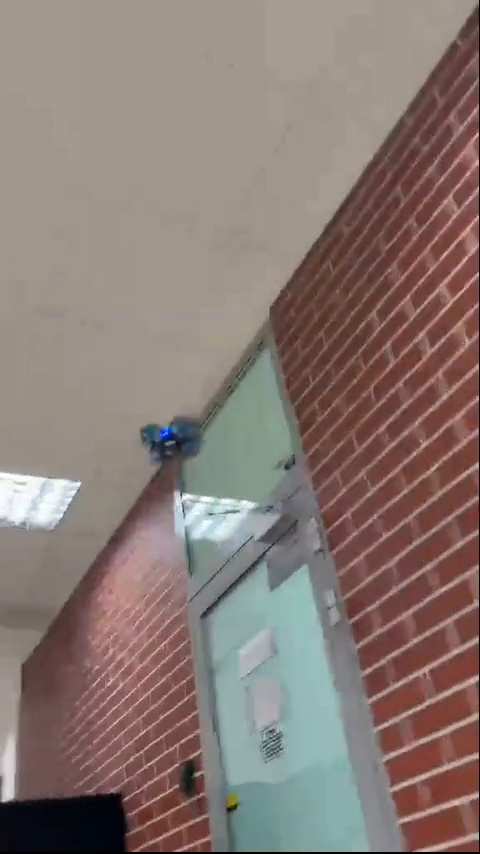drone: (144, 414, 206, 461)
